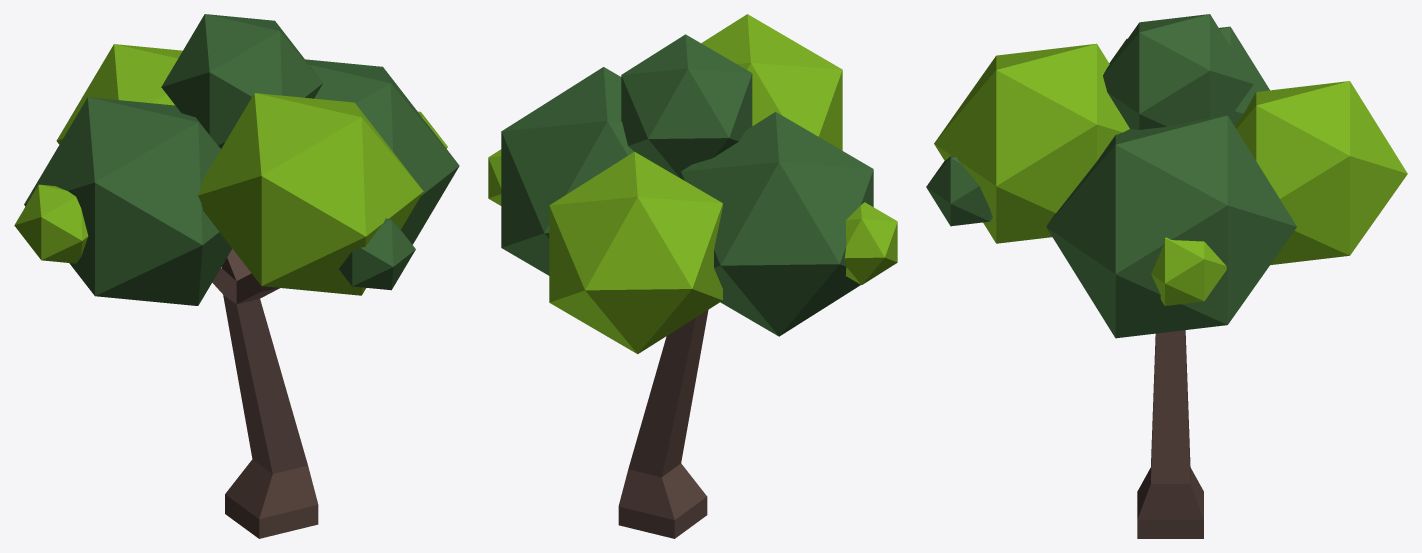
File: _tree_new_1.fbx
3 views of the same model, side by side, from view 1: azimuth 30°, elevation 25°; view 2: azimuth 150°, elevation 25°; view 3: azimuth 270°, elevation 25° (orthographic). The views are drawn at different scales.
Visible parts, largest first — view 1: polySurface4.002, polySurface4.004, polySurface4.009, polySurface4.007, polySurface4.008, polySurface4.001, polySurface4.005, polySurface4.006; view 2: polySurface4.004, polySurface4.001, polySurface4.008, polySurface4.007, polySurface4.009, polySurface4.002, polySurface4.005, polySurface4.003; view 3: polySurface4.008, polySurface4.002, polySurface4.001, polySurface4.007, polySurface4.009, polySurface4.003, polySurface4.006, polySurface4.004.
Boxes of the visible parts, left/top/right/bottom form: polySurface4.002: left=198, top=93, right=423, bottom=295; polySurface4.004: left=24, top=97, right=232, bottom=305; polySurface4.009: left=212, top=249, right=318, bottom=538; polySurface4.007: left=161, top=14, right=322, bottom=148; polySurface4.008: left=305, top=59, right=459, bottom=244; polySurface4.001: left=56, top=44, right=182, bottom=144; polySurface4.005: left=14, top=184, right=88, bottom=263; polySurface4.006: left=339, top=218, right=415, bottom=290; polySurface4.004: left=681, top=112, right=873, bottom=336; polySurface4.001: left=549, top=151, right=722, bottom=354; polySurface4.008: left=501, top=67, right=633, bottom=275; polySurface4.007: left=621, top=34, right=752, bottom=178; polySurface4.009: left=618, top=310, right=708, bottom=538; polySurface4.002: left=701, top=14, right=842, bottom=150; polySurface4.005: left=844, top=202, right=897, bottom=284; polySurface4.003: left=488, top=149, right=501, bottom=205; polySurface4.008: left=1046, top=115, right=1296, bottom=338; polySurface4.002: left=934, top=43, right=1129, bottom=243; polySurface4.001: left=1235, top=81, right=1407, bottom=264; polySurface4.007: left=1103, top=14, right=1253, bottom=129; polySurface4.009: left=1137, top=330, right=1203, bottom=538; polySurface4.003: left=1151, top=237, right=1226, bottom=305; polySurface4.006: left=926, top=156, right=992, bottom=226; polySurface4.004: left=1109, top=26, right=1269, bottom=126.
Bounding box in the file's own units: 412 × 472 × 421.
